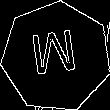M_S: (30, 29, 82, 85)
